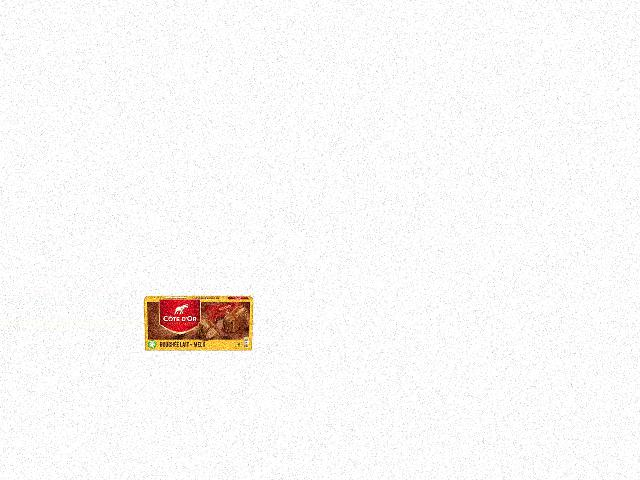chocolate: (144, 293, 255, 360)
